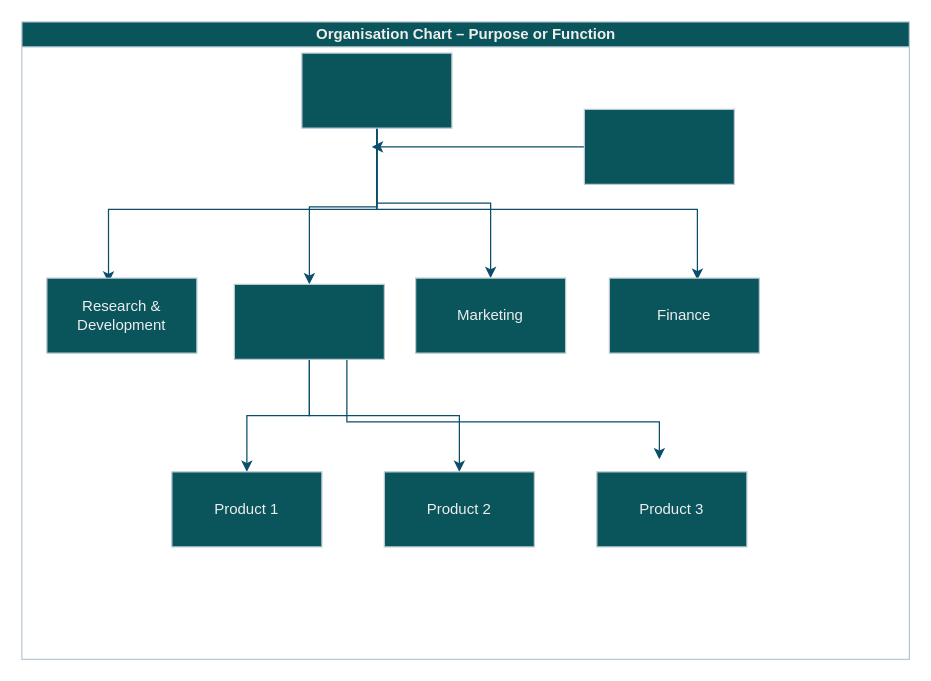
Some shapes in this 931 by 681 pixel diagram are drawn without their labels. Each missing label, with the centre of its shape:
"Human Resourses Management" belongs at (x=658, y=146).
"Managing Director" belongs at (x=376, y=90).
"Production" belongs at (x=308, y=321).
